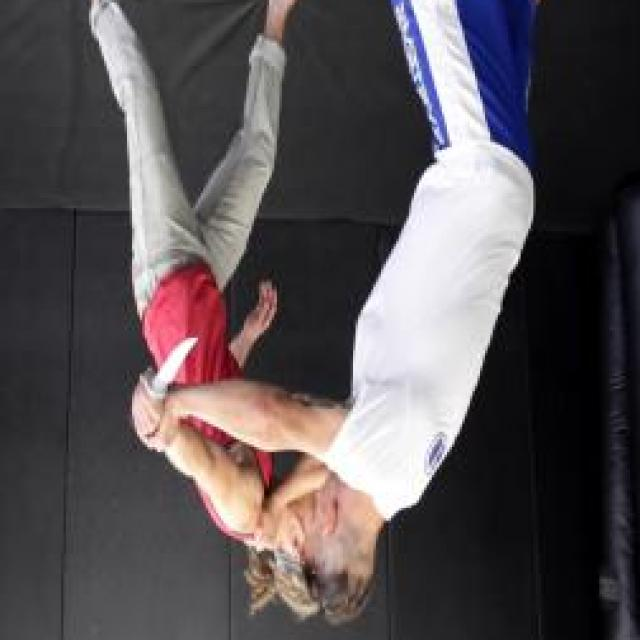knife: (122, 329, 202, 437)
